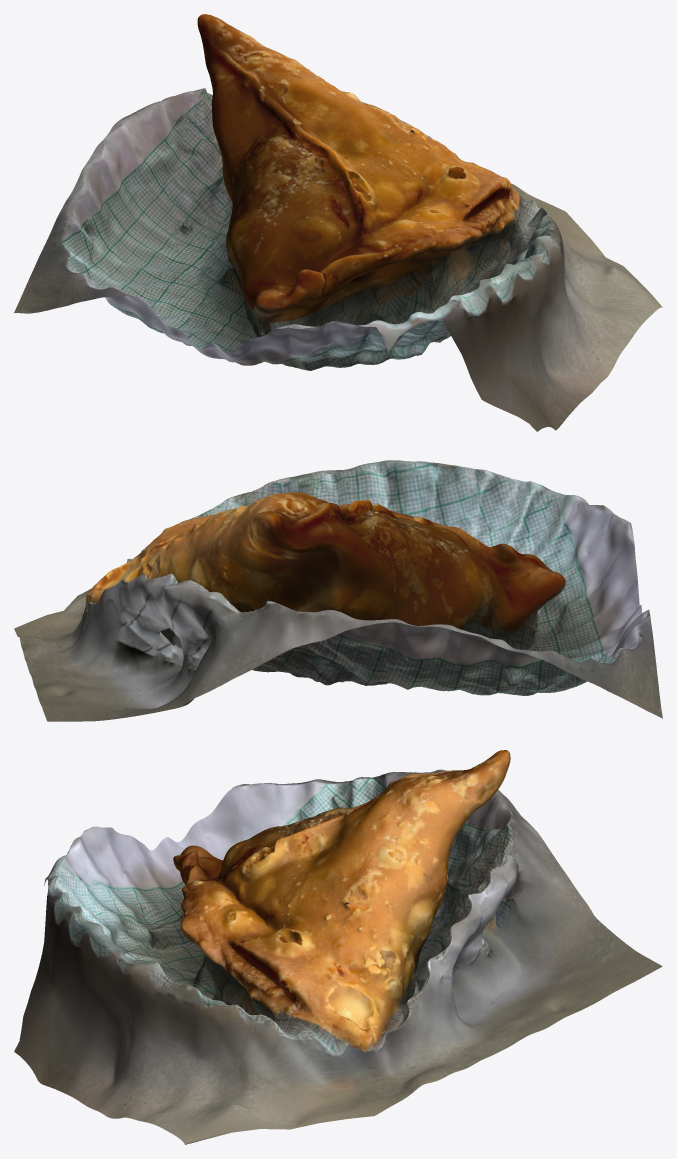
Rendered from samosa.glb.
3 views of the same model, one above another, from view 1: azimuth 30°, elevation 25°; view 2: azimuth 150°, elevation 25°; view 3: azimuth 270°, elevation 25° (orthographic). The views are drawn at different scales.
Visible parts, largest first — view 1: 3DModel; view 2: 3DModel; view 3: 3DModel.
Part boxes in pixels (x1,y1,x2,y2): 3DModel: [14, 14, 662, 431]; 3DModel: [14, 460, 662, 721]; 3DModel: [14, 750, 662, 1144].
Bounding box in the file's own units: 1.02 × 0.4718 × 1.01.
1 material, 1 textured.
